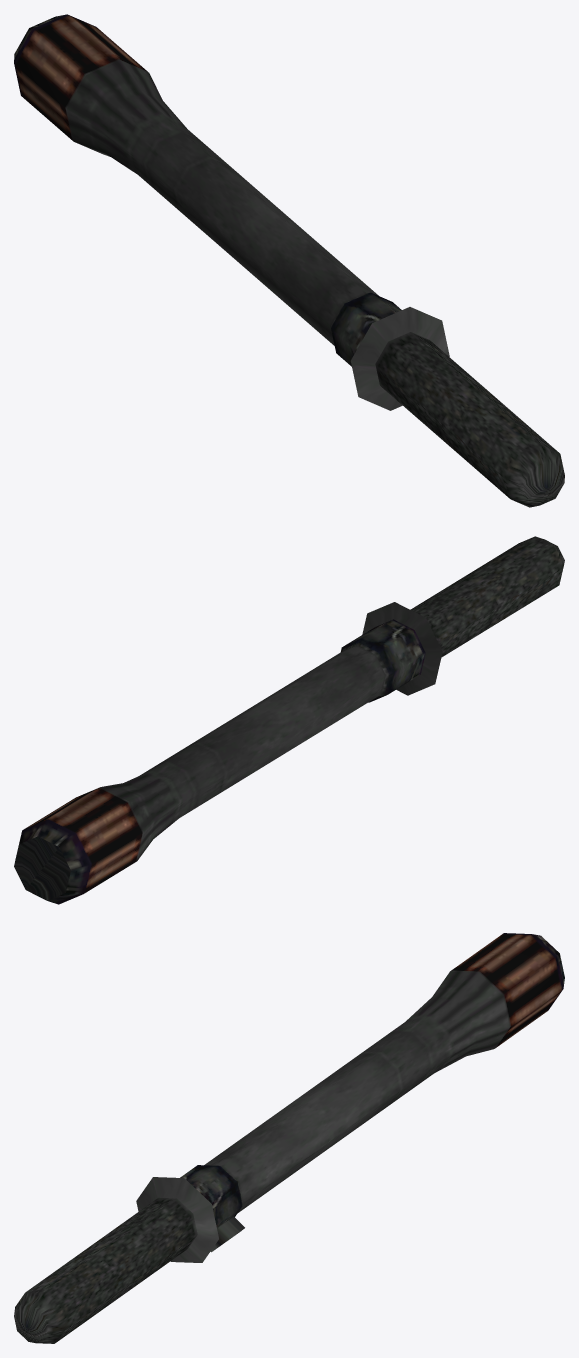
File: w_StunStick.fbx
The picture shows the model from 3 angles, top to bottom: view 1: azimuth 30°, elevation 25°; view 2: azimuth 150°, elevation 25°; view 3: azimuth 330°, elevation 25°; orthographic projection. The views are drawn at different scales.
Parts seen in each view (by area): view 1: Stunbaton_reference; view 2: Stunbaton_reference; view 3: Stunbaton_reference.
Part boxes in pixels (x1=…): Stunbaton_reference: x1=14, y1=14, x2=564, y2=507; Stunbaton_reference: x1=14, y1=536, x2=564, y2=904; Stunbaton_reference: x1=14, y1=933, x2=564, y2=1343.
Size of the model in its own units: 287 by 265 by 2233.
